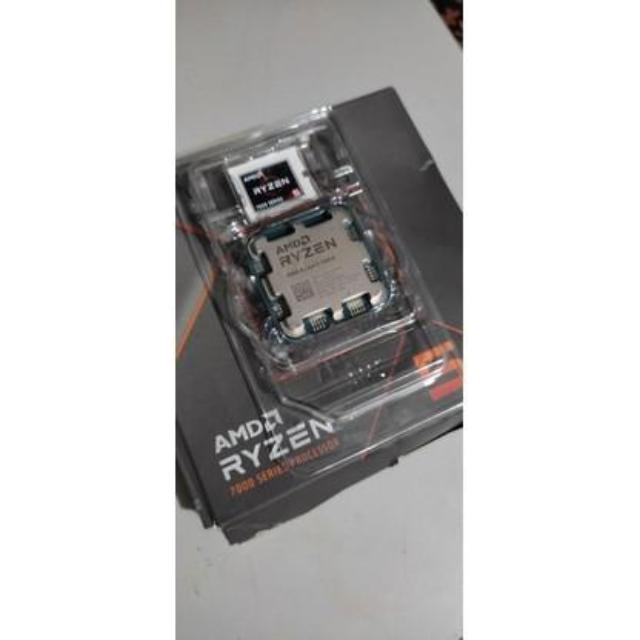CPU: (252, 210, 388, 333)
